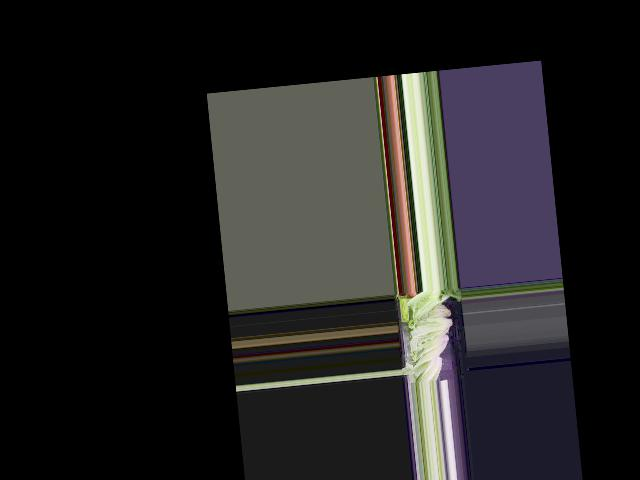lettuce: (413, 353, 445, 383)
